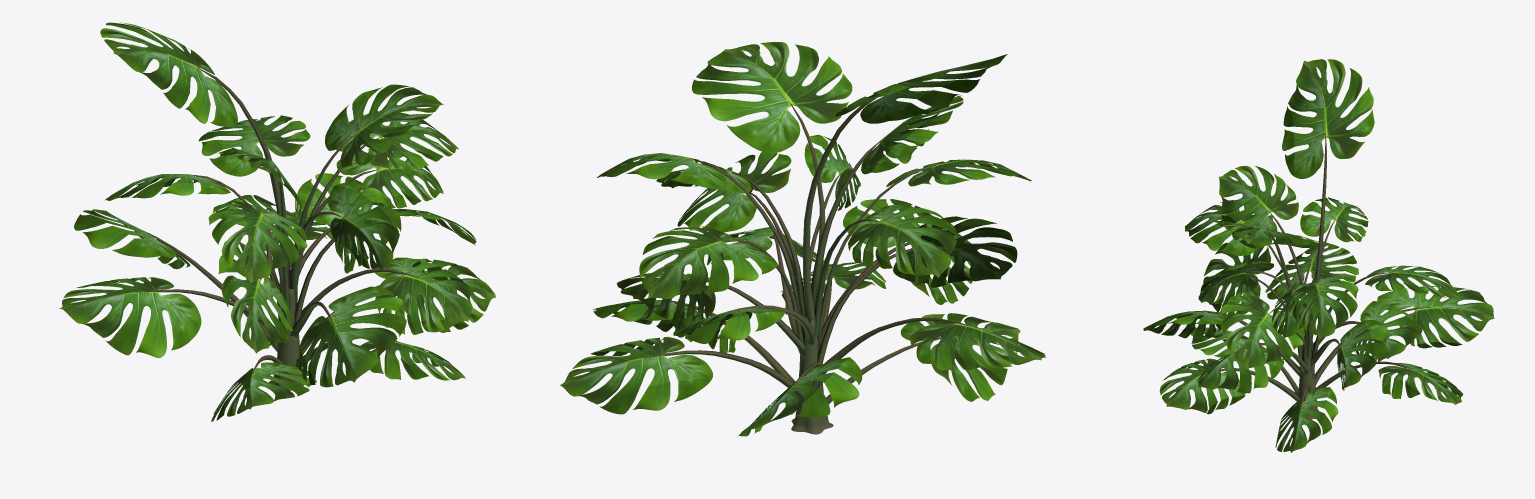
File: MonsteraDeliciosaPlant_3.glb
The picture shows the model from 3 angles, left to right: view 1: azimuth 30°, elevation 25°; view 2: azimuth 150°, elevation 25°; view 3: azimuth 270°, elevation 25°; orthographic projection. The views are drawn at different scales.
Visible parts, largest first — view 1: tree.007SM_MZRa_Monstera_B072_MI_MZRa_Monstera_B07a1_0, tree.007SM_MZRa_Monstera_B072_MI_MZRa_Monstera_B07b_0; view 2: tree.007SM_MZRa_Monstera_B072_MI_MZRa_Monstera_B07a1_0, tree.007SM_MZRa_Monstera_B072_MI_MZRa_Monstera_B07b_0; view 3: tree.007SM_MZRa_Monstera_B072_MI_MZRa_Monstera_B07a1_0, tree.007SM_MZRa_Monstera_B072_MI_MZRa_Monstera_B07b_0.
Part boxes in pixels (x1=…): tree.007SM_MZRa_Monstera_B072_MI_MZRa_Monstera_B07a1_0: x1=59, y1=22, x2=495, y2=421; tree.007SM_MZRa_Monstera_B072_MI_MZRa_Monstera_B07b_0: x1=136, y1=67, x2=432, y2=390; tree.007SM_MZRa_Monstera_B072_MI_MZRa_Monstera_B07a1_0: x1=560, y1=42, x2=1045, y2=436; tree.007SM_MZRa_Monstera_B072_MI_MZRa_Monstera_B07b_0: x1=640, y1=97, x2=975, y2=434; tree.007SM_MZRa_Monstera_B072_MI_MZRa_Monstera_B07a1_0: x1=1143, y1=59, x2=1494, y2=452; tree.007SM_MZRa_Monstera_B072_MI_MZRa_Monstera_B07b_0: x1=1194, y1=133, x2=1433, y2=419.
Size of the model in its own units: 3.16 by 2.79 by 3.09.
Materials: 2 (2 with a texture image).
